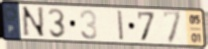3: (79, 8, 99, 40), (47, 7, 67, 39)
7: (162, 10, 183, 46), (136, 10, 158, 43)
I: (116, 9, 126, 42)
N: (20, 6, 47, 39)
